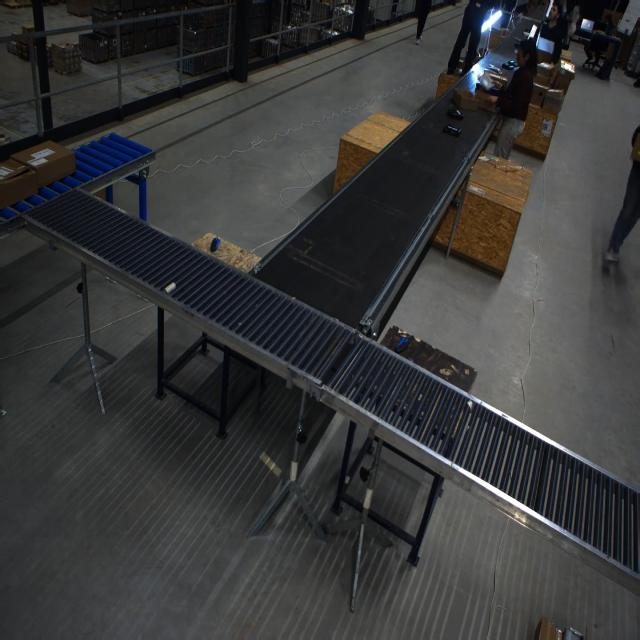box: (10, 139, 74, 191), (0, 155, 38, 211), (474, 82, 504, 112), (452, 86, 482, 112), (533, 58, 559, 87), (550, 65, 573, 93), (541, 89, 564, 115), (528, 83, 548, 108), (453, 57, 466, 73), (560, 49, 573, 62)
product: (442, 125, 462, 138), (501, 59, 519, 70), (447, 108, 464, 119), (522, 30, 530, 38)
